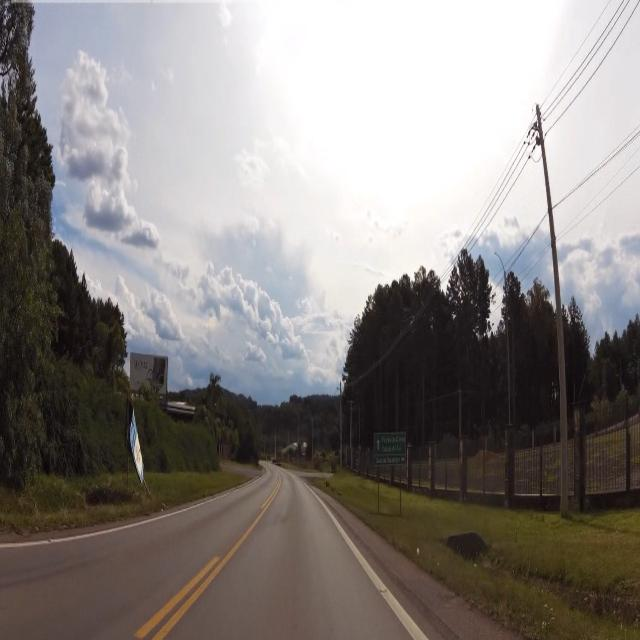I-4: (374, 432, 408, 466)
